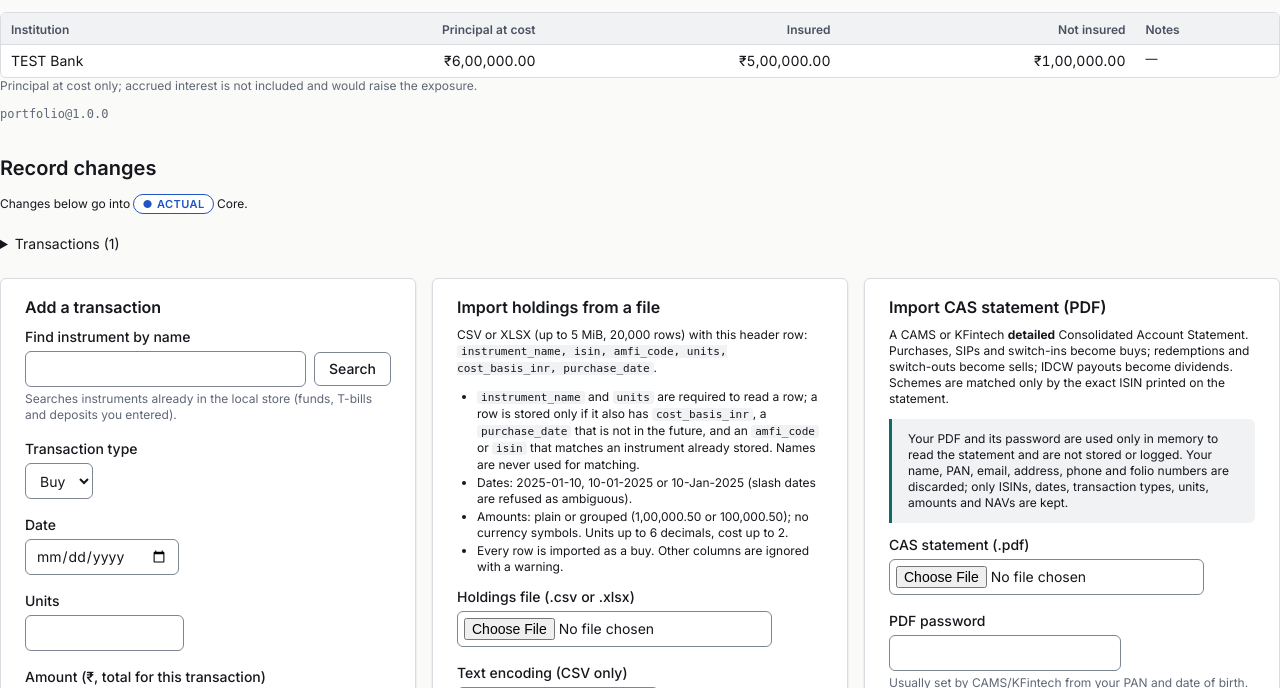
Test: Overview — transactions › posts a transaction with decimal strings
(page scrolled)
In the field labelled "Find instrument by name": point(166, 369) [25,351,306,387], type "TEST"
Click the button "Search": point(352, 369) [314,352,391,386]
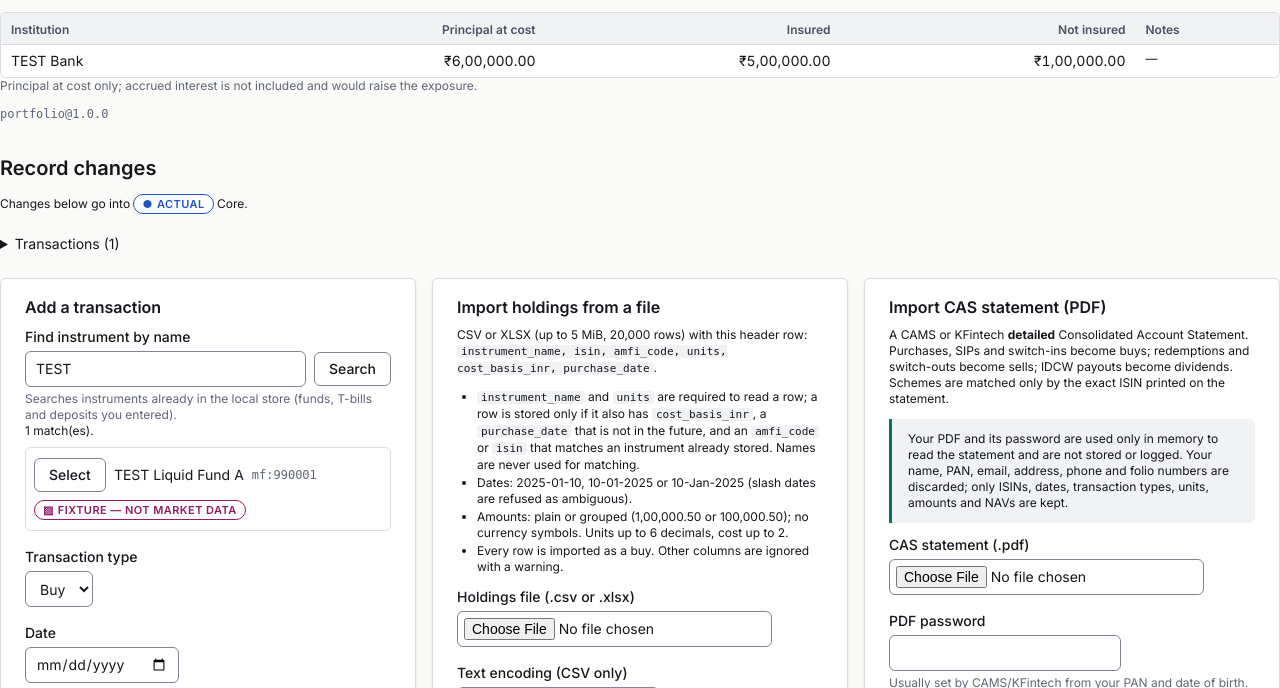
Click the button with aria-label "Select TEST Liquid Fund A": point(70, 475) [34,458,106,492]
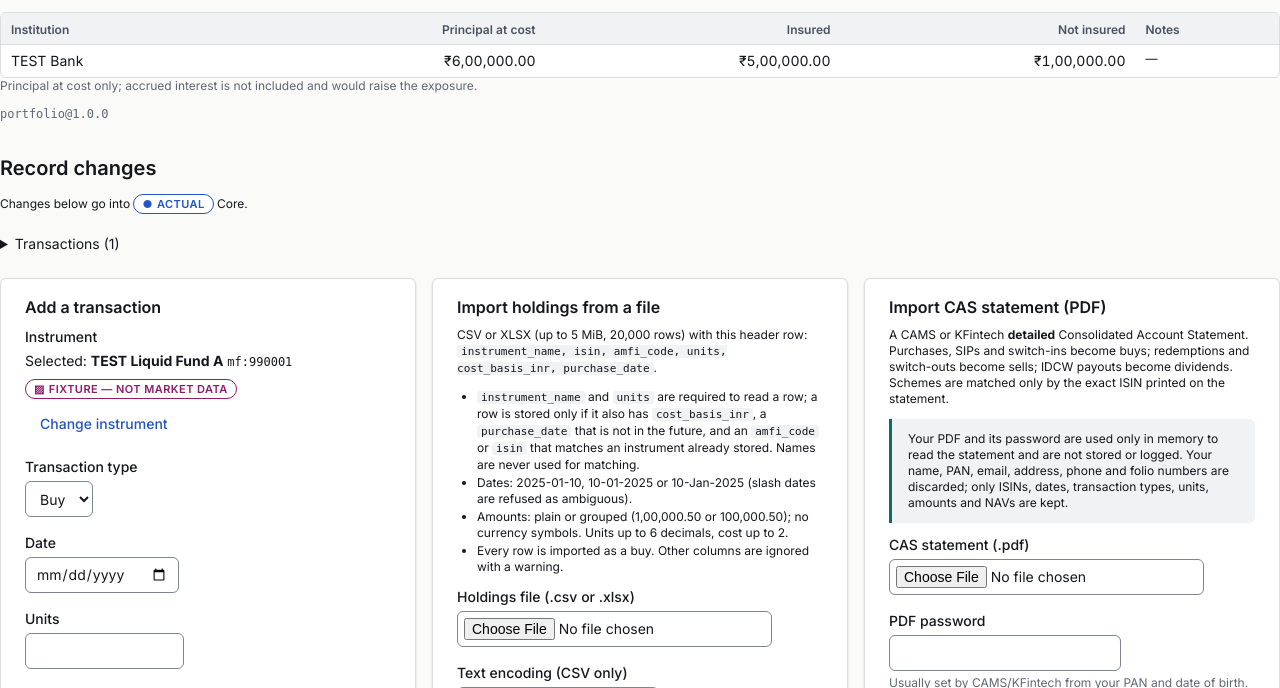
Select "Sell" in the dropdown labelled "Transaction type": point(59, 499) [25,481,93,517]
In the date field labelled "Date": point(102, 575) [25,557,179,593], type "2025-02-10"
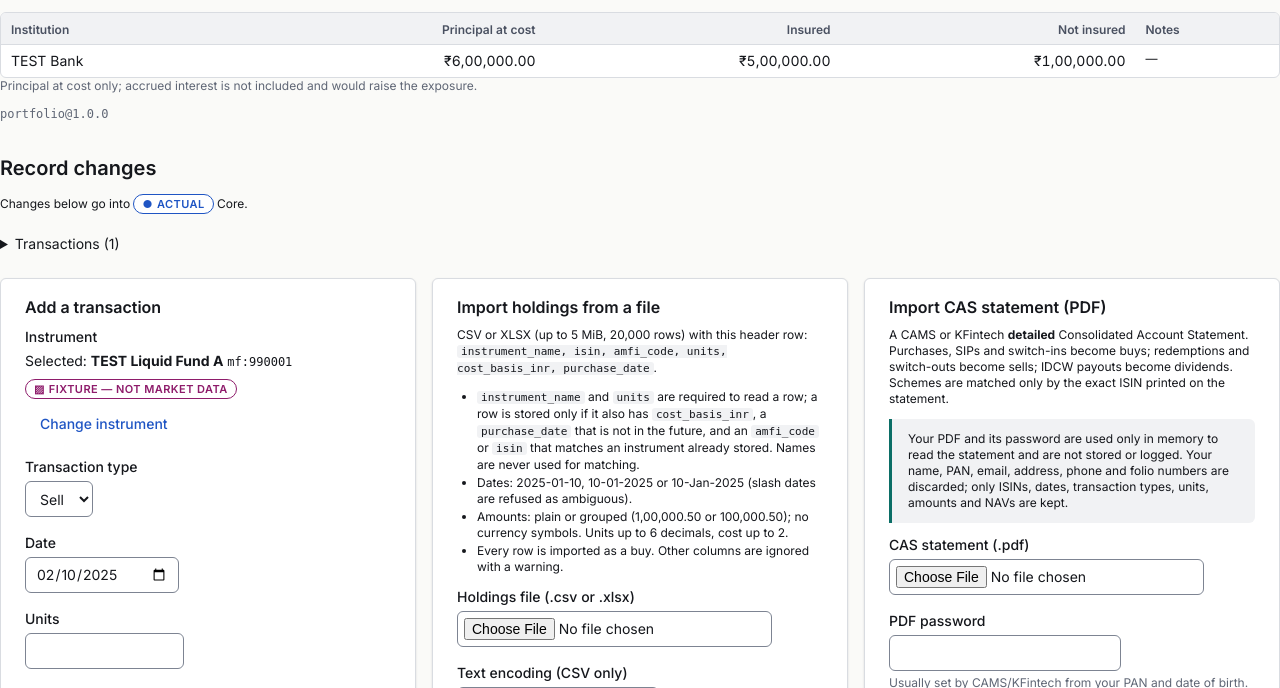
In the field labelled "Units": point(104, 651) [25,633,184,669], type "10.5"
(page scrolled)
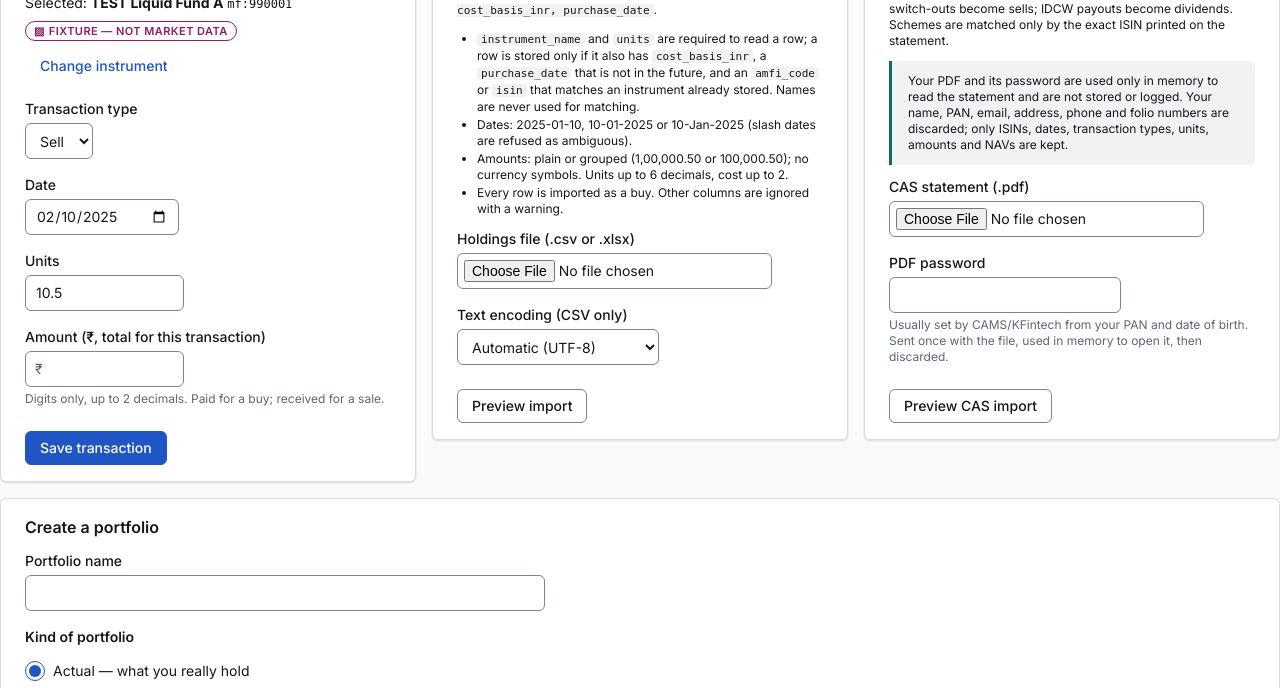
In the field labelled "Amount (₹, total for this transaction)": point(104, 369) [25,351,184,387], type "1,25,000.50"
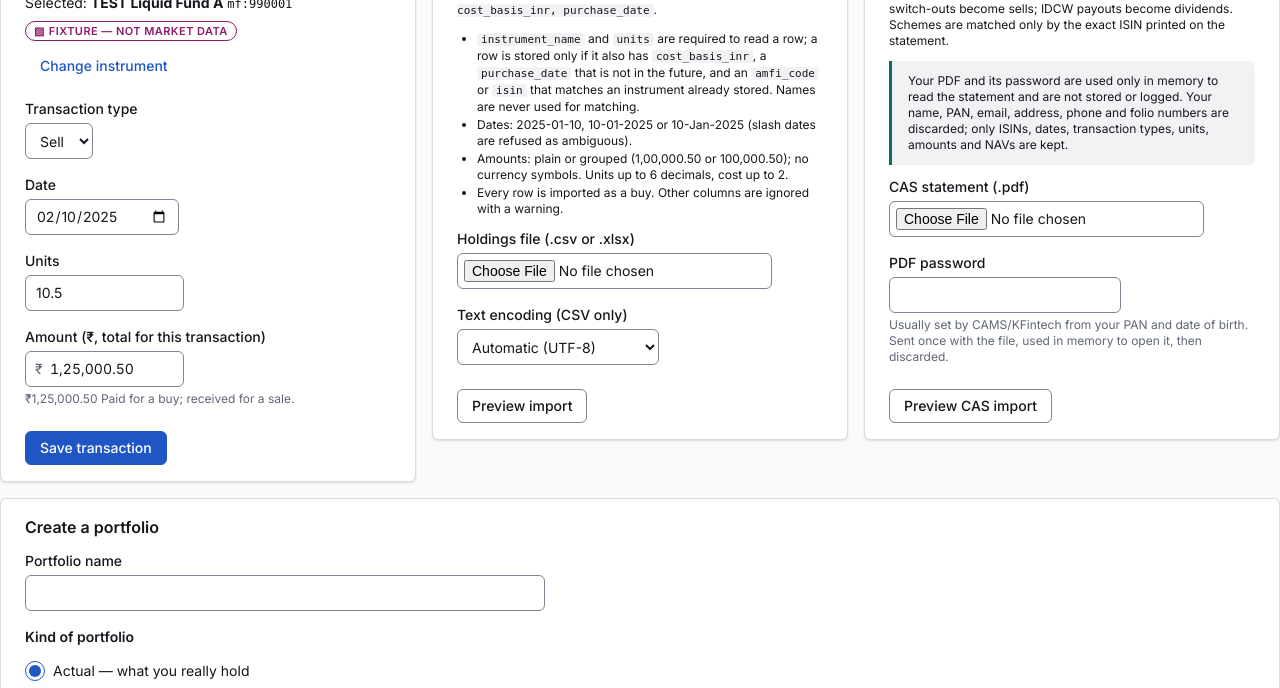
Click the button "Save transaction": point(96, 448) [25,431,167,465]
(page scrolled)
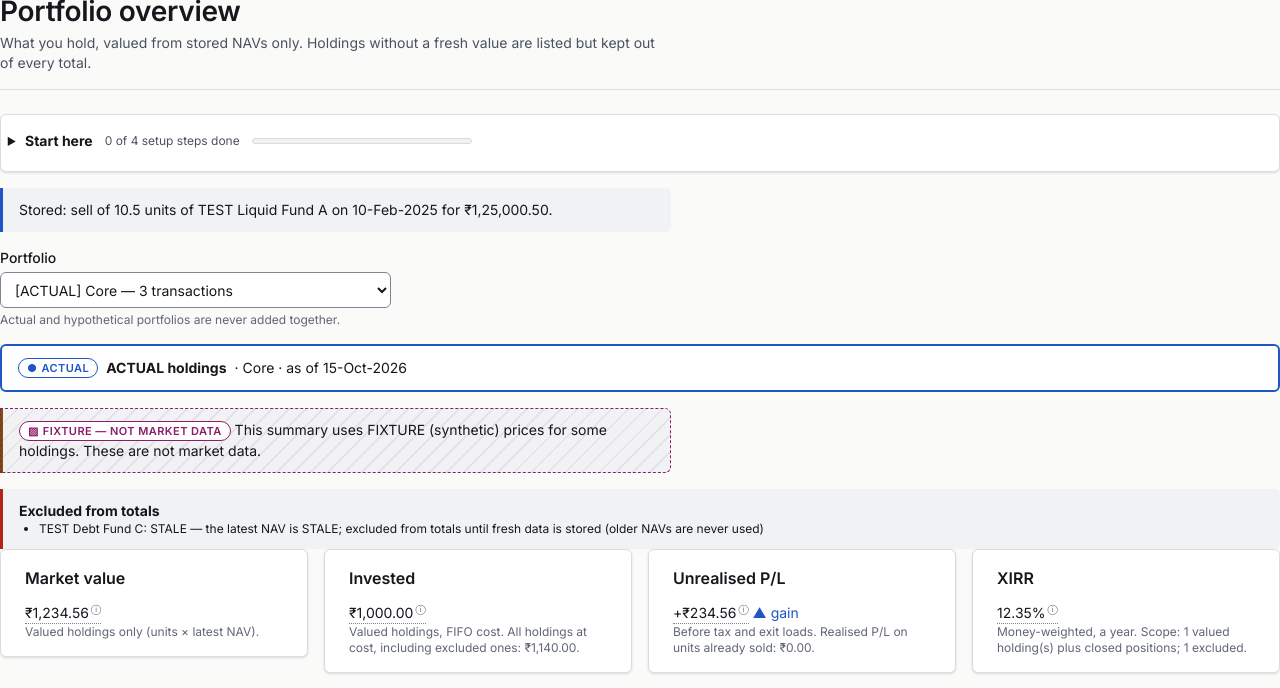
Check: the text "Stored: sell of 10.5 units of TEST Liquid Fund A on 10-Feb-2025 for ₹1,25,000.50" is shown, box [19,201,552,218]
